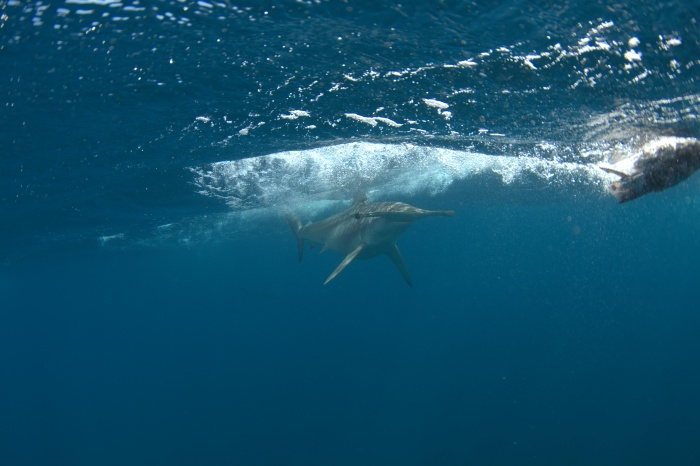Hammer: (240, 164, 462, 313)
